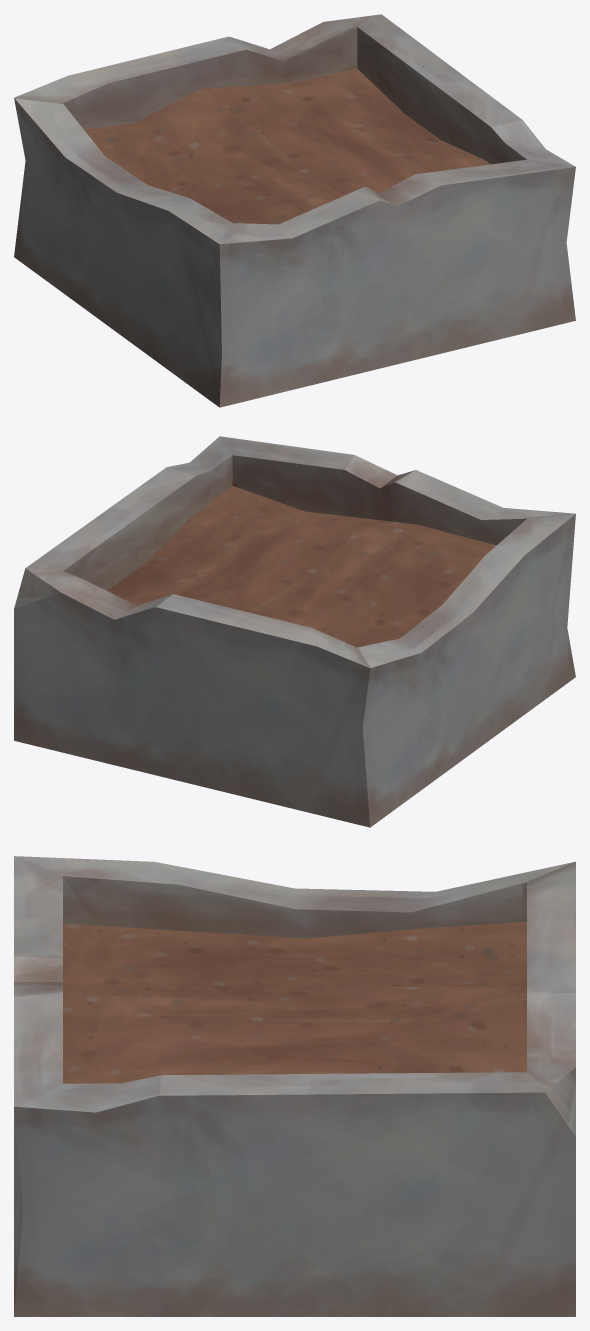
Rendered from Planter_01_individual.fbx.
3 renders of one model, top to bottom at view 1: azimuth 30°, elevation 25°; view 2: azimuth 150°, elevation 25°; view 3: azimuth 270°, elevation 25°, orthographic. The views are drawn at different scales.
Visible parts, largest first — view 1: Planter_individual; view 2: Planter_individual; view 3: Planter_individual.
Boxes of the visible parts, <box> form: Planter_individual: <box>14,14,575,407</box>; Planter_individual: <box>14,436,575,827</box>; Planter_individual: <box>14,856,575,1316</box>.
Bounding box in the file's own units: 100 × 45.11 × 100.
